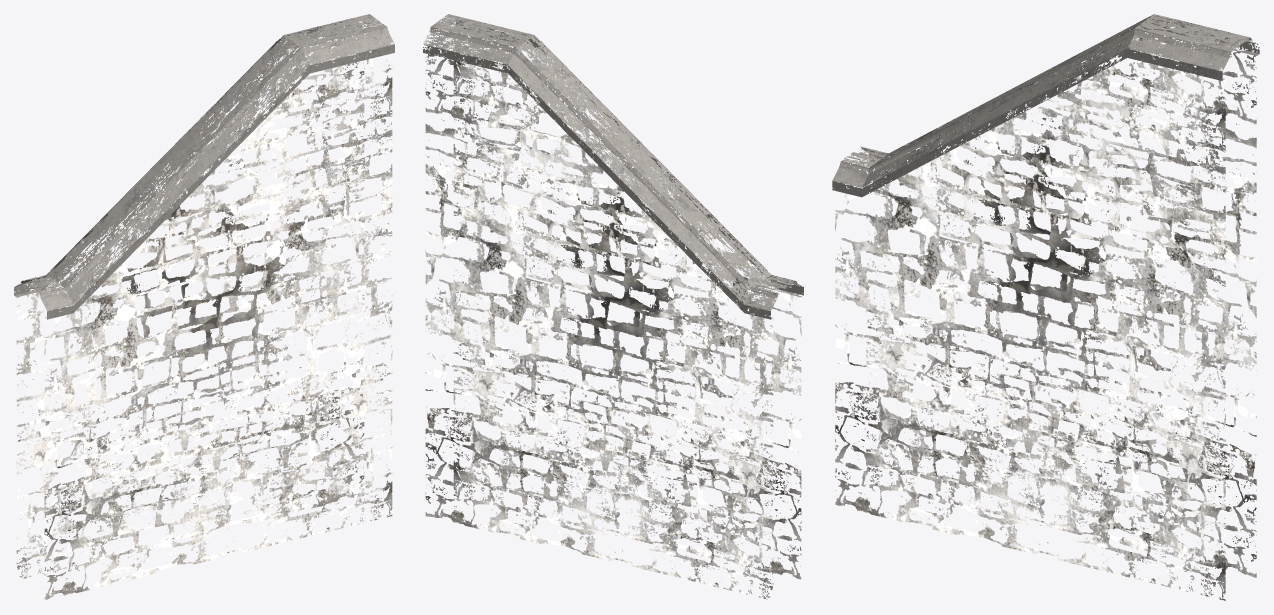
File: SM_porch_parapet_01_01.fbx
3 views of the same model, side by side, from view 1: azimuth 30°, elevation 25°; view 2: azimuth 150°, elevation 25°; view 3: azimuth 330°, elevation 25° (orthographic). The views are drawn at different scales.
Parts seen in each view (by area): view 1: SM_porch_parapet_01_01_LOD0; view 2: SM_porch_parapet_01_01_LOD0; view 3: SM_porch_parapet_01_01_LOD0.
Boxes of the visible parts, x1,y1,x2,y2 form: SM_porch_parapet_01_01_LOD0: (14, 14, 394, 599); SM_porch_parapet_01_01_LOD0: (423, 14, 803, 599); SM_porch_parapet_01_01_LOD0: (832, 14, 1259, 600).
Size of the model in its own units: 180 by 29.6 by 240.
Materials: 2 (2 with a texture image).
